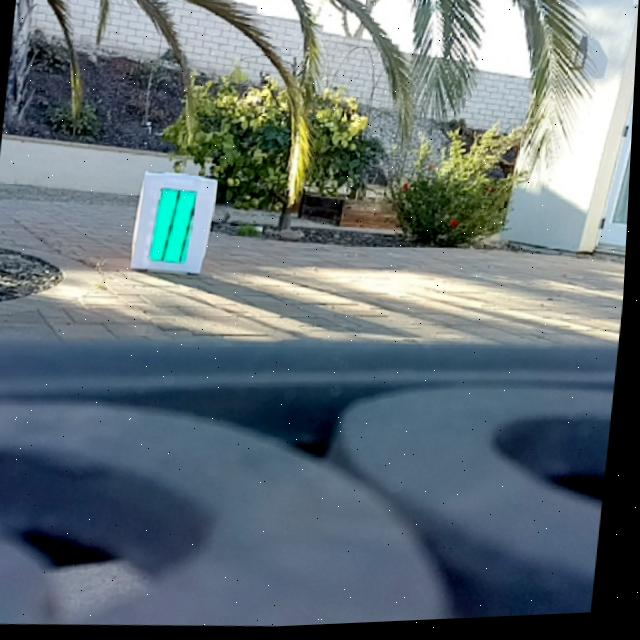led: (151, 189, 198, 265)
